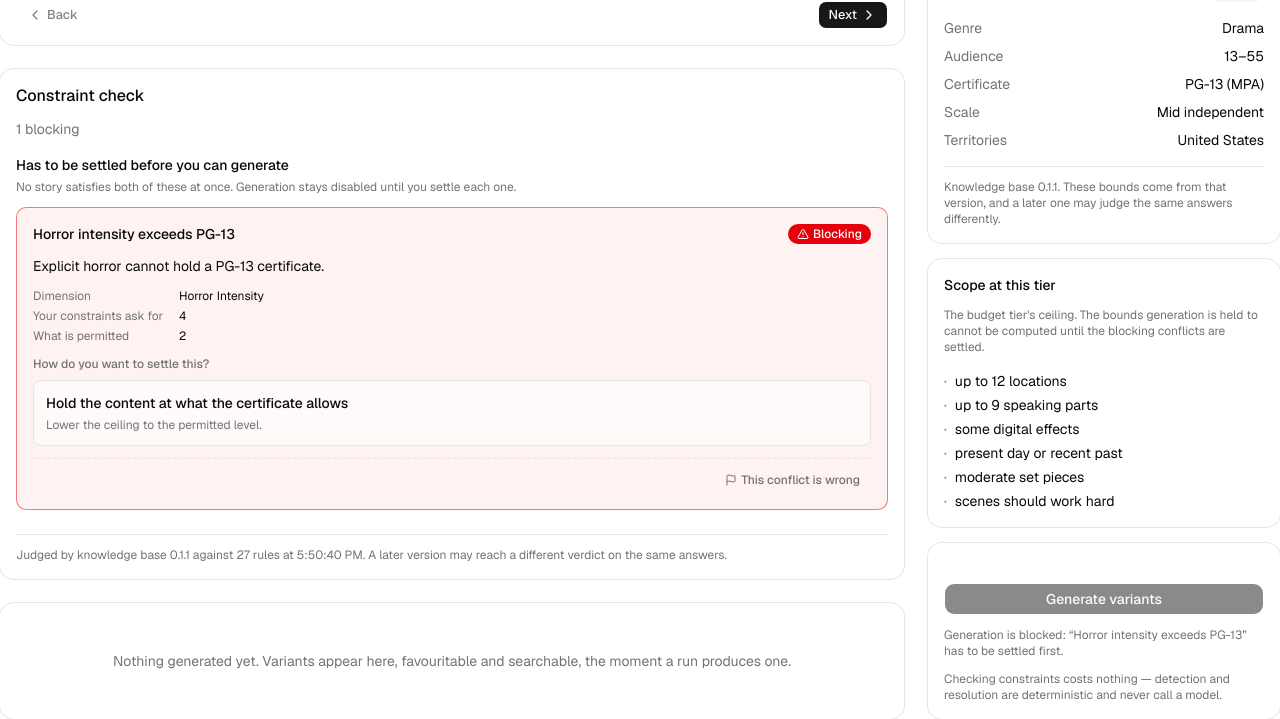
Test case: ProjectWorkspace › opens the gate once the chosen resolution settles the conflict
(page scrolled)
Click the radio button labelled "Hold the content".
click(197, 403)  # box [33, 380, 871, 446]
Wait 360 ms
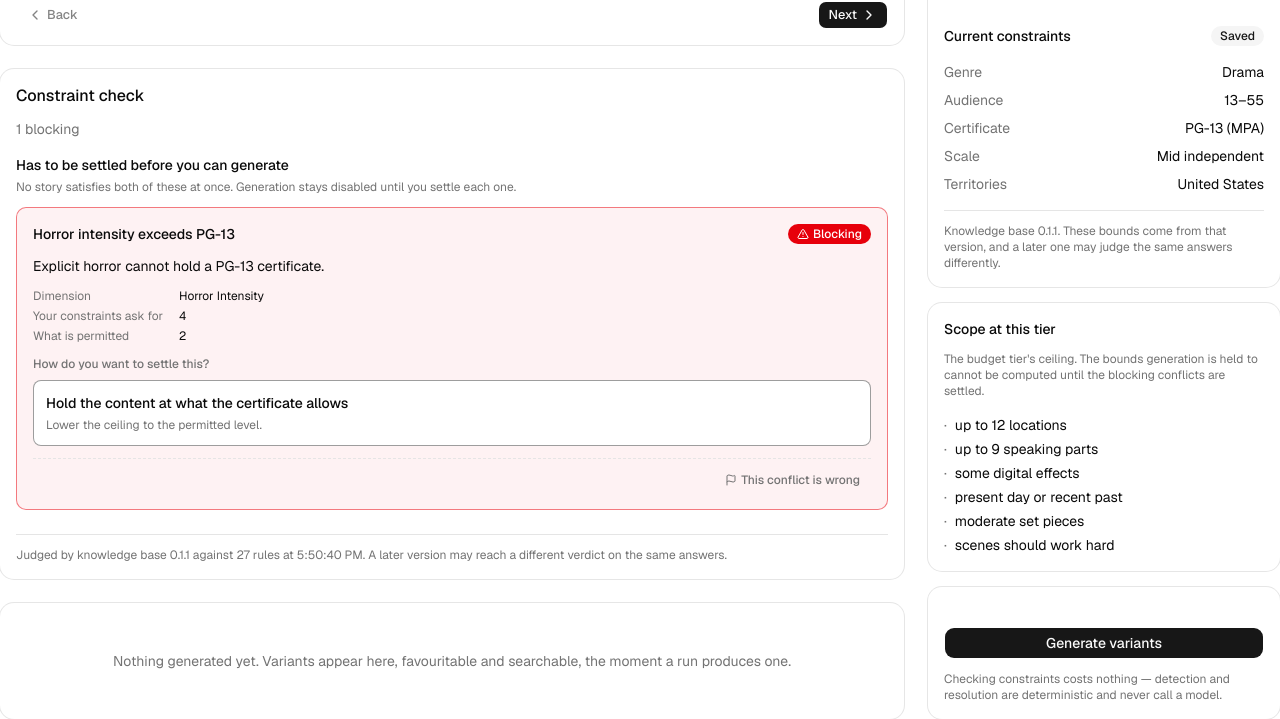
Result: the button "Generate variants" is enabled at [944, 627, 1264, 659]
